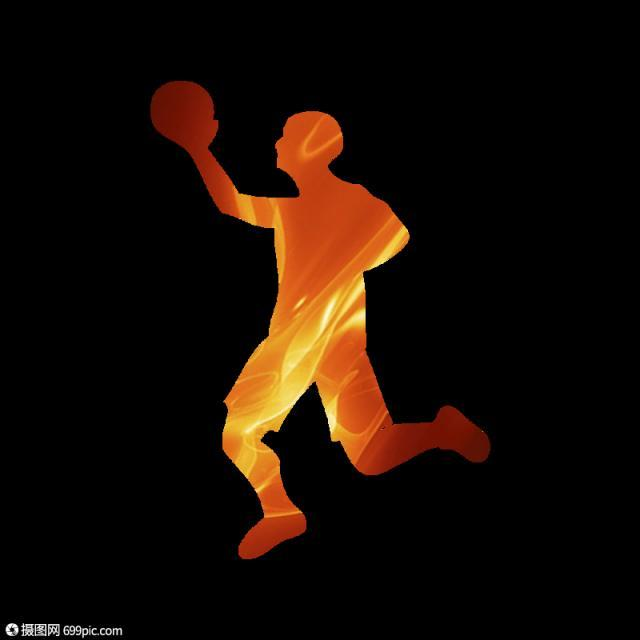rim: (150, 80, 212, 140)
